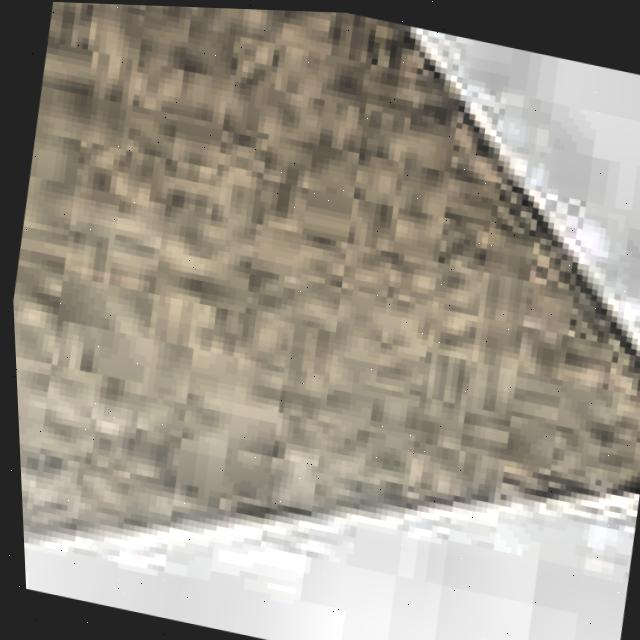paper: (10, 1, 640, 551)
